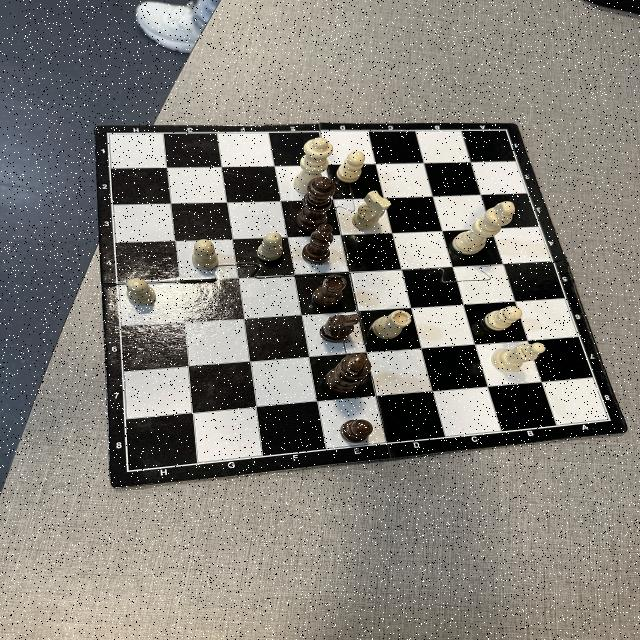Black-Bishop: (302, 223, 334, 263)
Black-King: (326, 353, 372, 393)
Black-Knight: (318, 313, 359, 342)
Black-Pawn: (341, 418, 374, 443)
Black-Queen: (296, 177, 336, 229)
Black-Rook: (314, 274, 346, 310)
White-Bishop: (492, 342, 546, 372)
White-King: (454, 202, 516, 254)
White-Knight: (352, 190, 390, 230)
White-Pawn: (336, 150, 366, 182), (486, 306, 522, 330), (192, 240, 220, 270), (126, 278, 156, 306), (257, 232, 283, 260)
White-Queen: (294, 138, 332, 194)
White-Rook: (372, 311, 412, 339)
